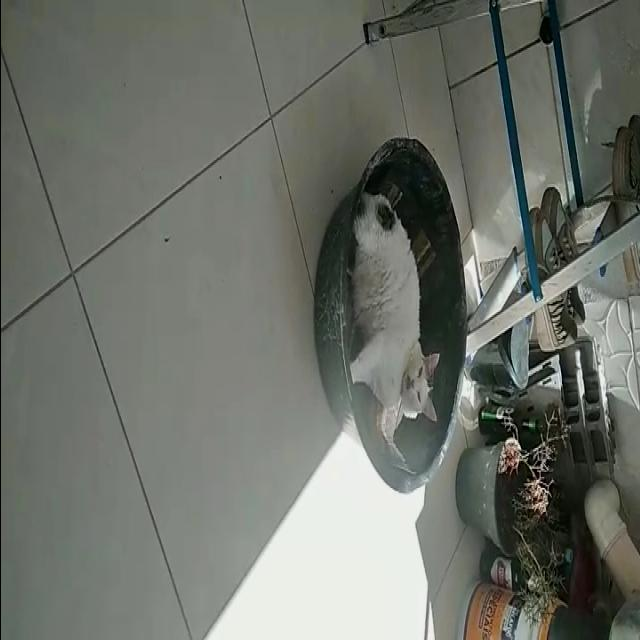Simba: (341, 177, 444, 489)
